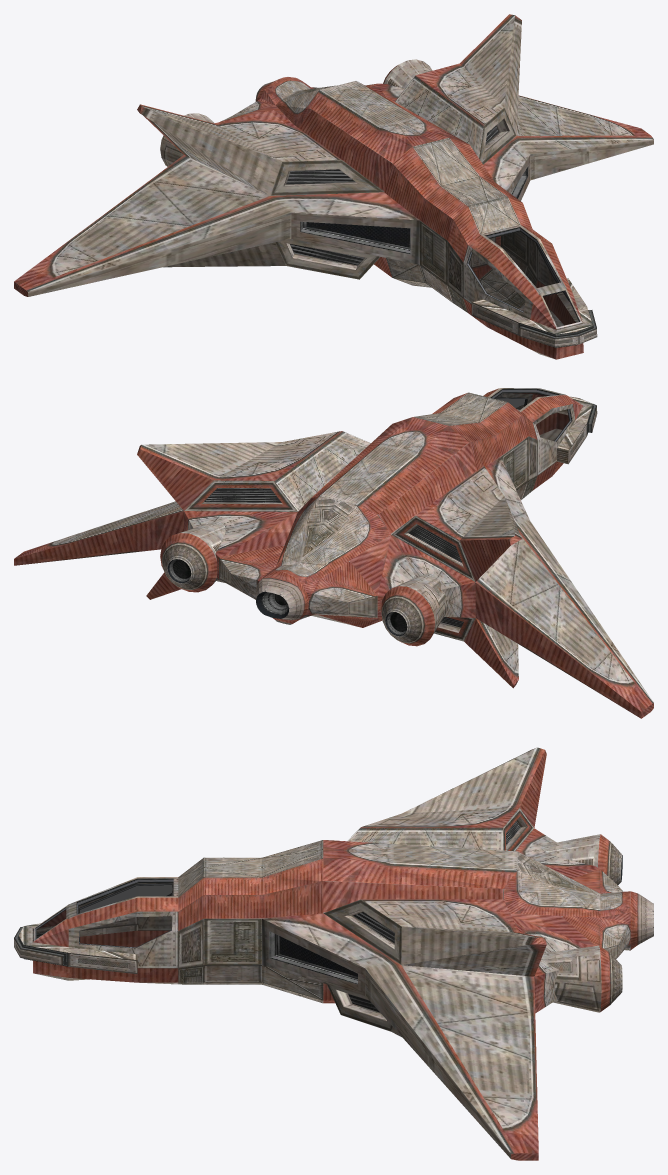
The model's file is pirate hf.obj.
The picture shows the model from 3 angles, top to bottom: view 1: azimuth 30°, elevation 25°; view 2: azimuth 150°, elevation 25°; view 3: azimuth 270°, elevation 25°; orthographic projection. The views are drawn at different scales.
Visible parts, largest first — view 1: polySurface34; view 2: polySurface34; view 3: polySurface34.
Boxes of the visible parts, box(x1,y1,x2,y2) form: polySurface34: box(14, 14, 653, 359); polySurface34: box(14, 388, 653, 718); polySurface34: box(14, 747, 653, 1160).
Bounding box in the file's own units: 69.15 × 16.49 × 58.53.
Materials: 4 (3 with a texture image).
